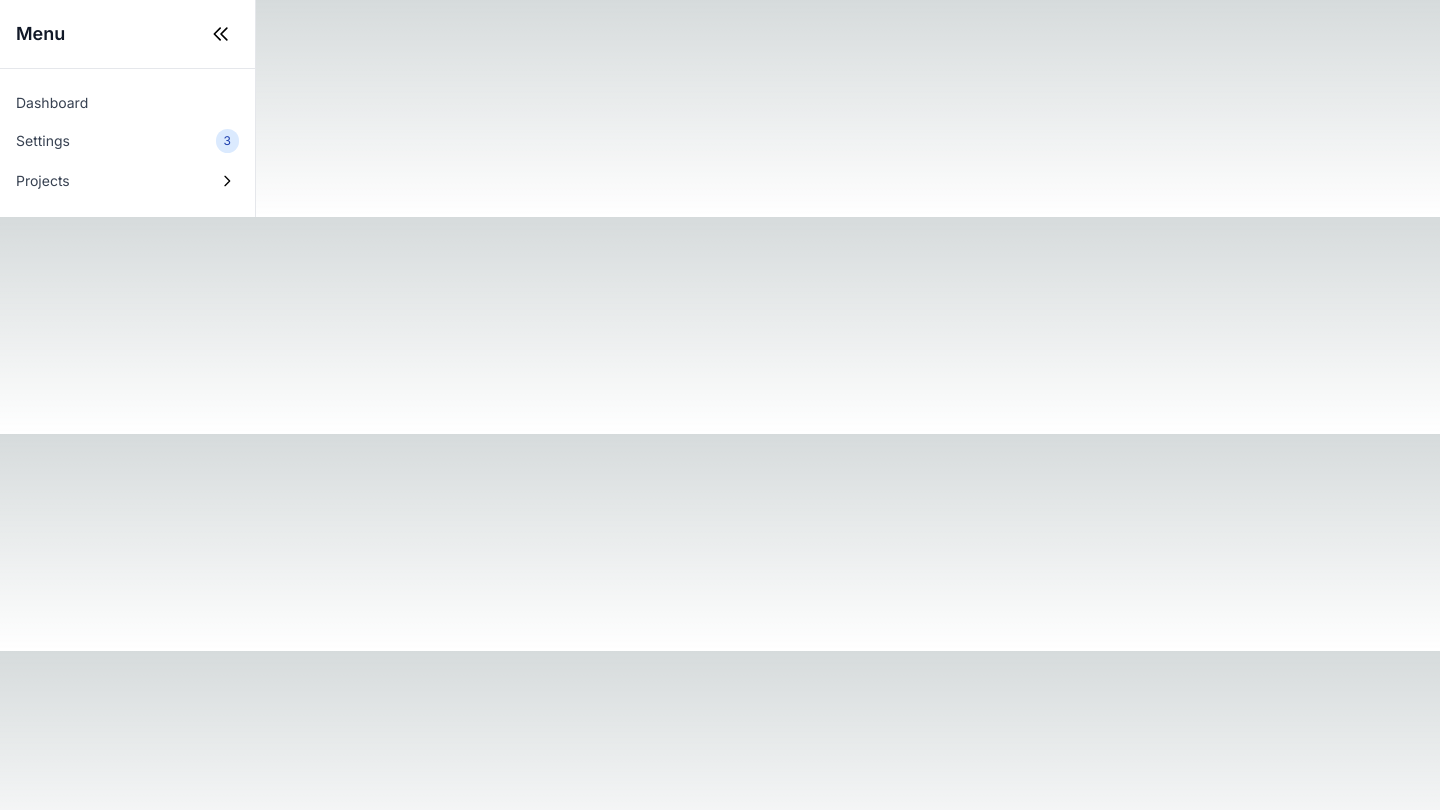
Test: Sidebar › collapses nested items when clicked again
Click the 2nd button at point(227, 181), box [215,169,239,193]
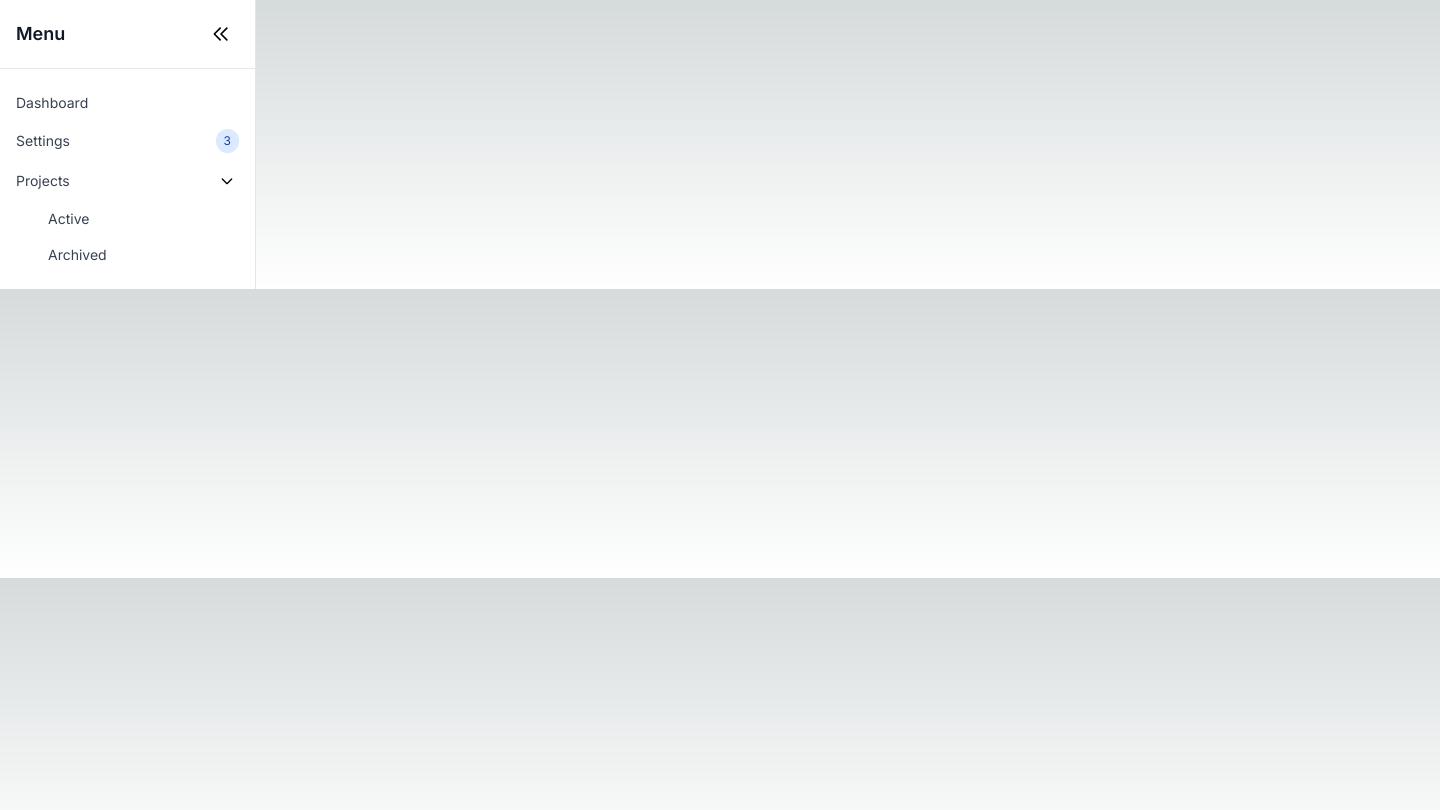
expect the text "Active" is shown: met, box [48,209,89,229]
Click the 2nd button at point(227, 181), box [215,169,239,193]
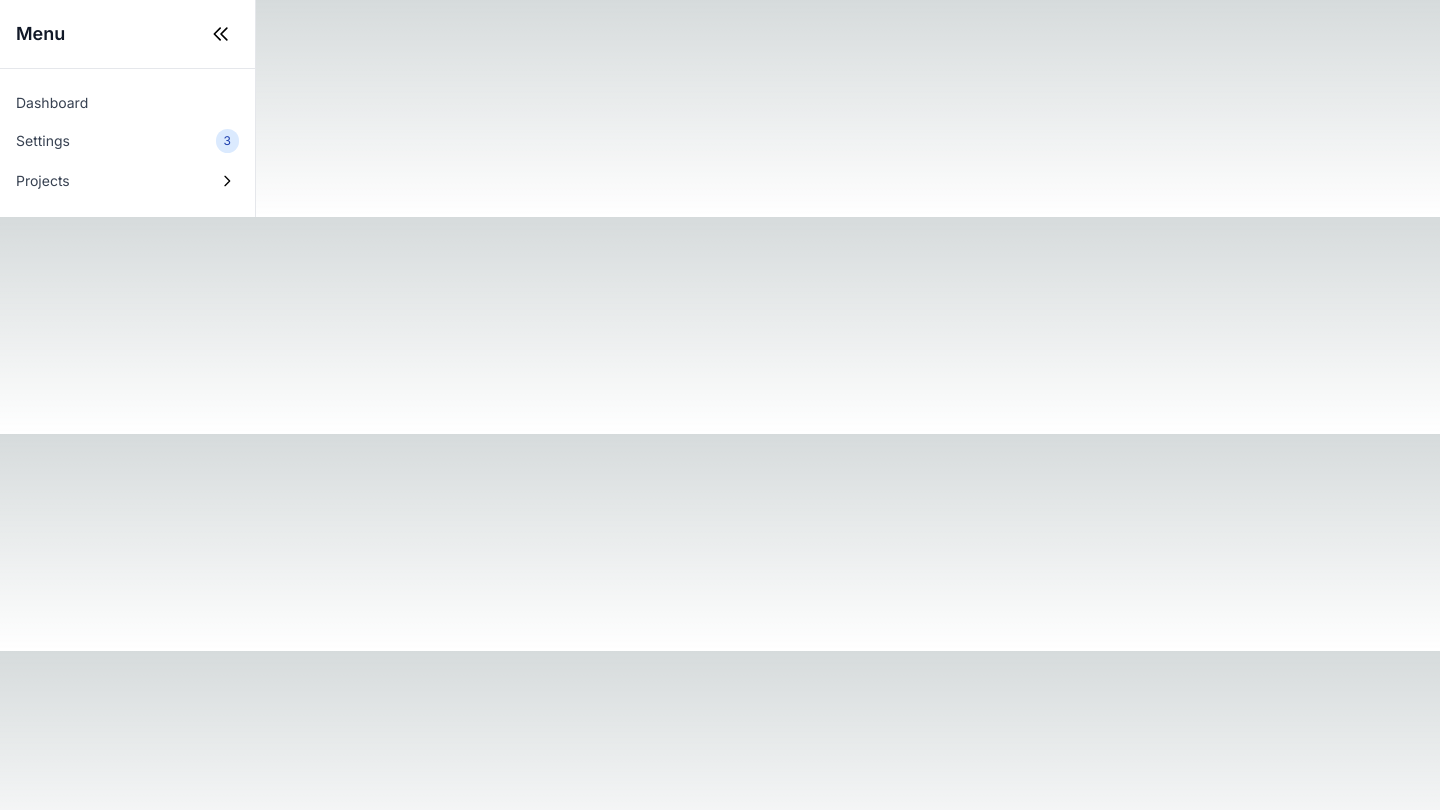
expect the link "Active" is gone: met
